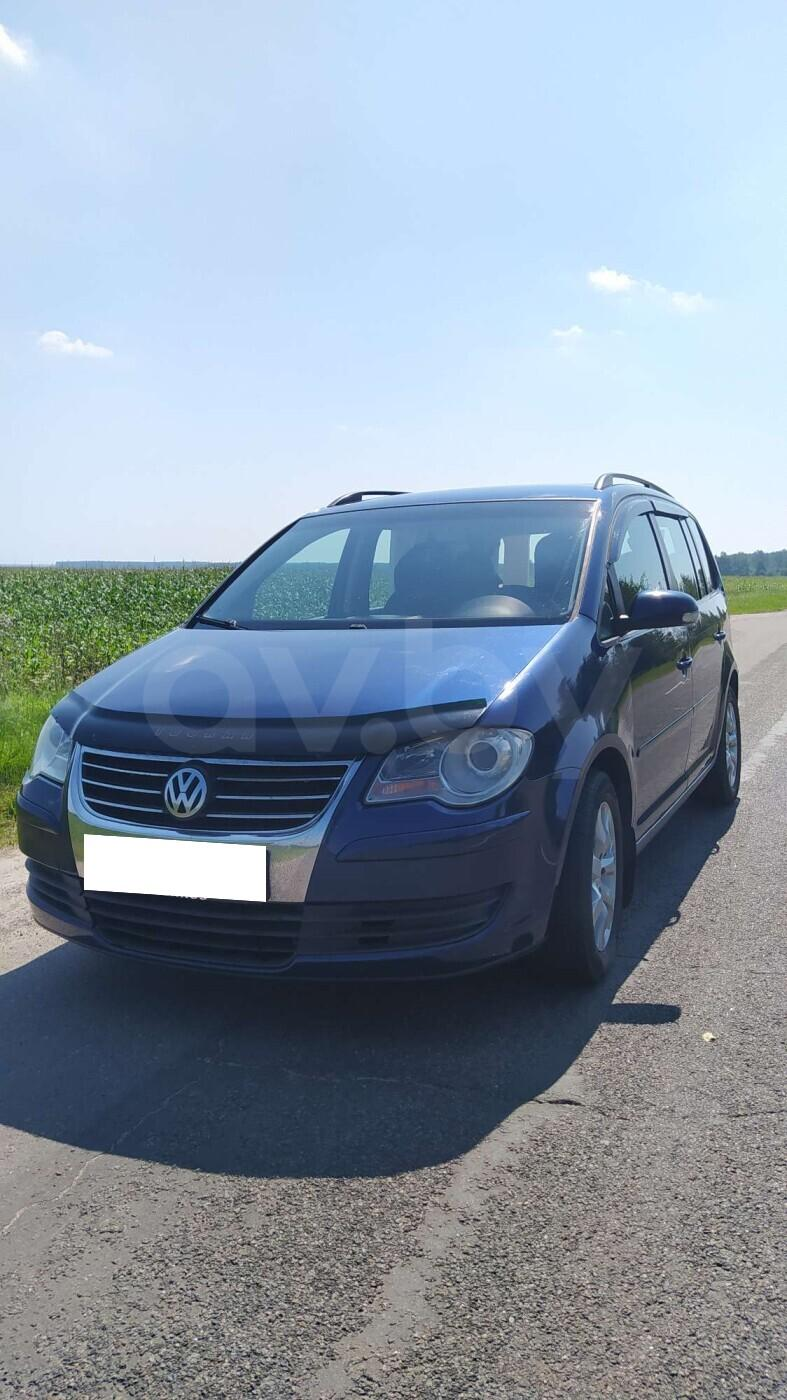Touran_2006-2010: (16, 472, 742, 1008)
